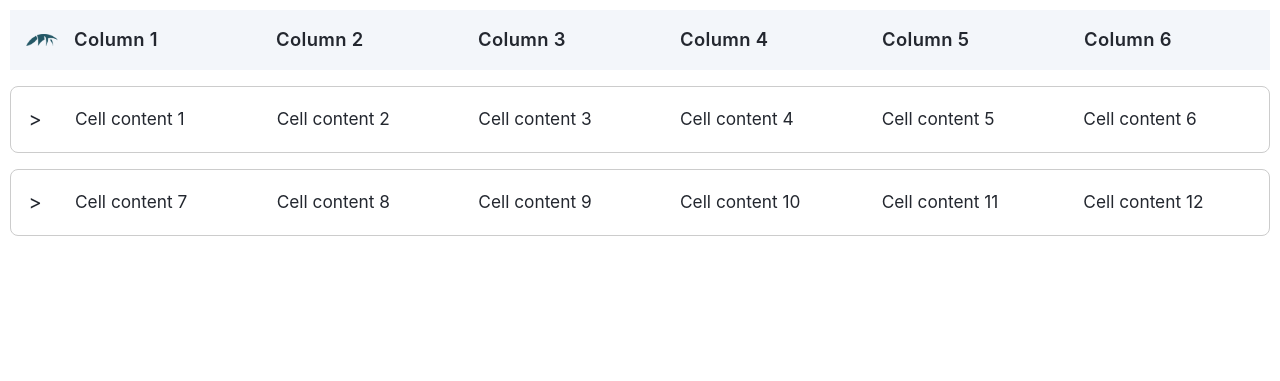
Test: Expandable Table E2E Tests › should handle multiple row expansions
The image size is (1280, 381).
// Expand first row
Click the button with test id "expand-button-0".
click(35, 119)  # box [28,104,41,134]
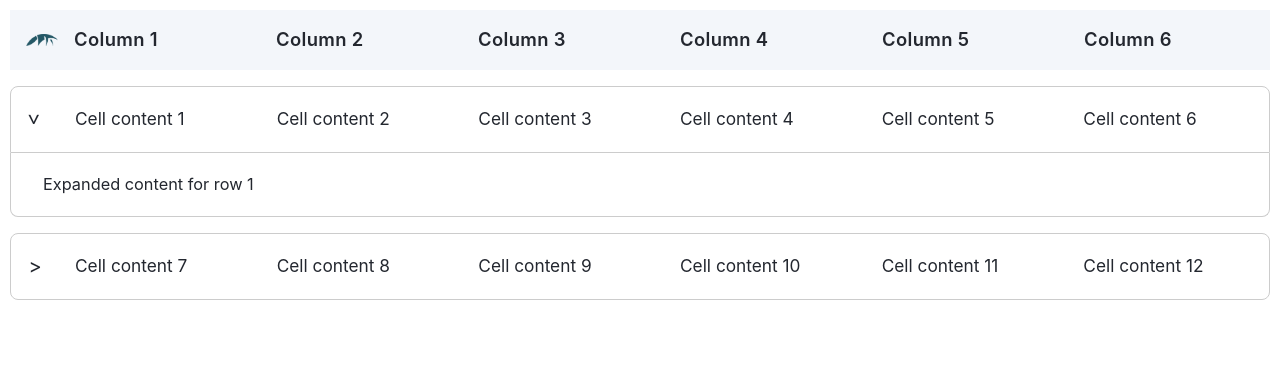
// Expand second row
Click the button with test id "expand-button-1".
click(35, 266)  # box [28,251,41,281]
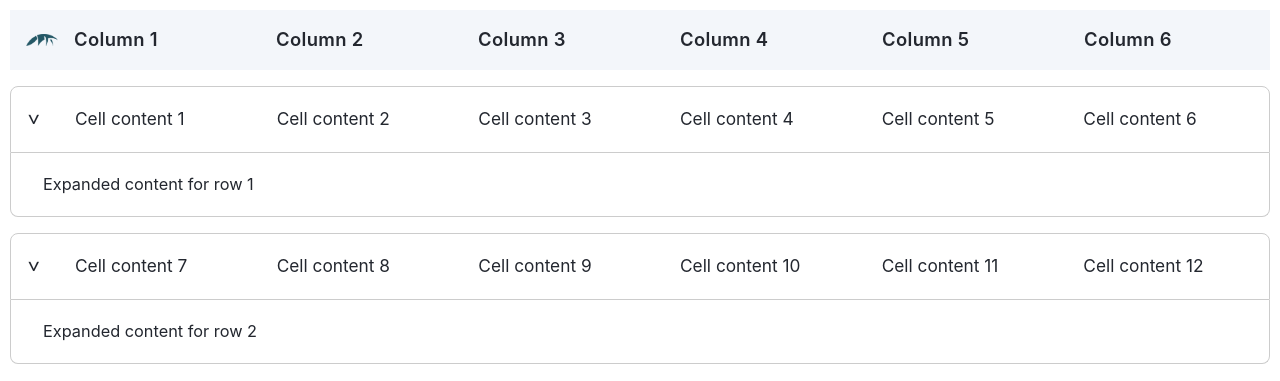
Result: the row with test id "expanded-content-0" reads "Expanded content for row 1" at [10,153,1270,217]
Result: the button with test id "expand-button-0" is expanded at [23,113,47,126]
Result: the row with test id "expanded-content-1" reads "Expanded content for row 2" at [10,300,1270,364]
